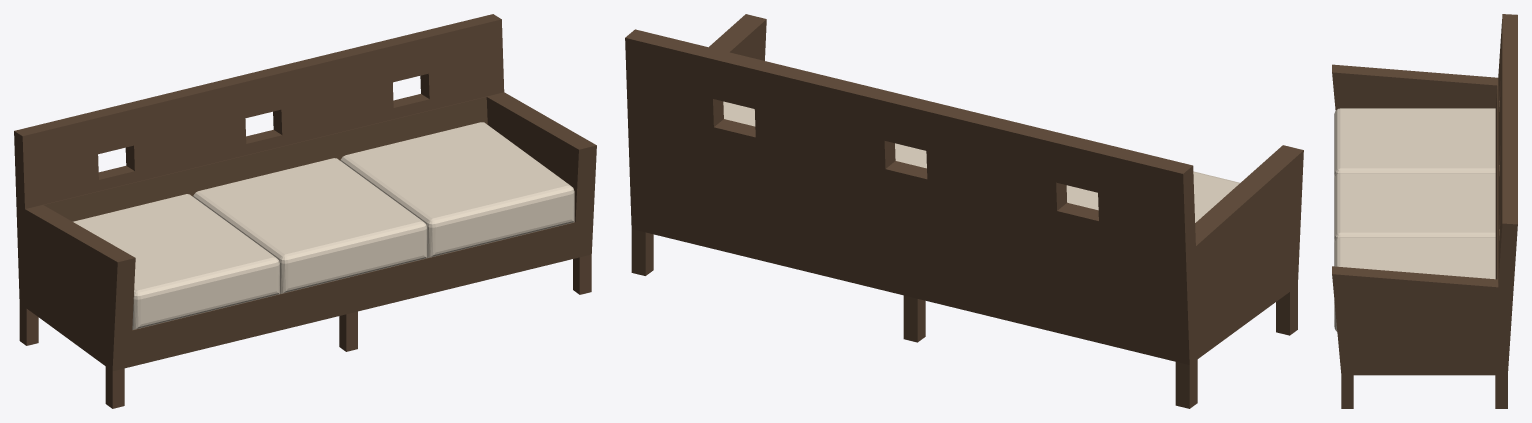
Rendered from couch-by-cmht-oculus-8gJKD8bAxN0.glb.
3 views of the same model, side by side, from view 1: azimuth 30°, elevation 25°; view 2: azimuth 150°, elevation 25°; view 3: azimuth 270°, elevation 25° (orthographic). The views are drawn at different scales.
Parts seen in each view (by area): view 1: Node; view 2: Node; view 3: Node.
Boxes of the visible parts, left/top/right/bottom form: Node: left=14, top=14, right=596, bottom=408; Node: left=625, top=14, right=1303, bottom=408; Node: left=1332, top=14, right=1517, bottom=408.
Bounding box in the file's own units: 80 × 33 × 29.99.
